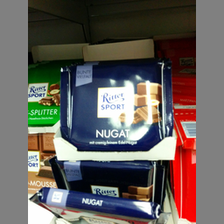chocolate: (61, 63, 172, 149), (49, 158, 157, 200)
